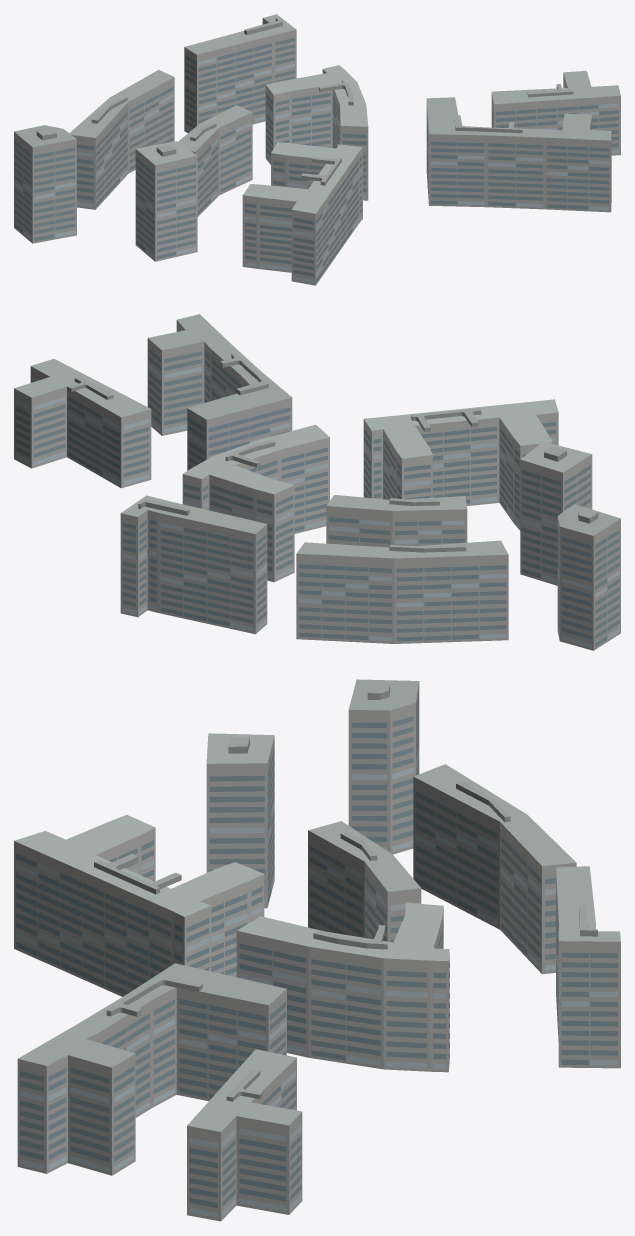
The model's file is apt-a41279904.glb.
3 renders of one model, top to bottom at view 1: azimuth 30°, elevation 25°; view 2: azimuth 150°, elevation 25°; view 3: azimuth 270°, elevation 25°, orthographic. The views are drawn at different scales.
Visible parts, largest first — view 1: apt-a41279904; view 2: apt-a41279904; view 3: apt-a41279904.
Boxes of the visible parts, <box> form: apt-a41279904: <box>14,14,620,285</box>; apt-a41279904: <box>14,314,620,650</box>; apt-a41279904: <box>14,679,620,1221</box>.
Size of the model in its own units: 263 by 47 by 170.
